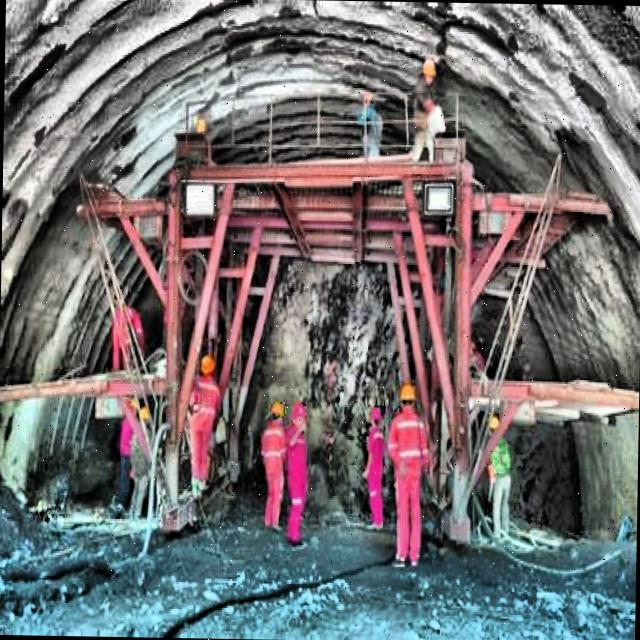helmet: (394, 376, 418, 416), (192, 350, 216, 383), (288, 396, 309, 432), (265, 396, 286, 430), (419, 52, 438, 89), (368, 401, 383, 430)
